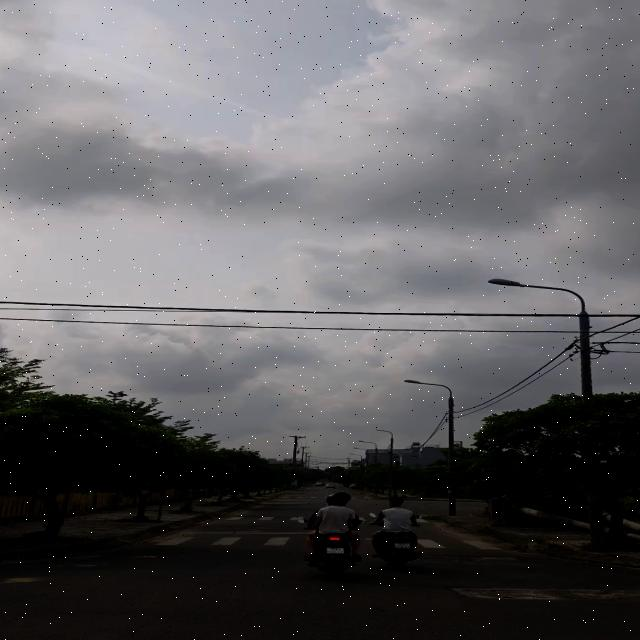no_helmet: (388, 493, 408, 512), (331, 491, 351, 507)
